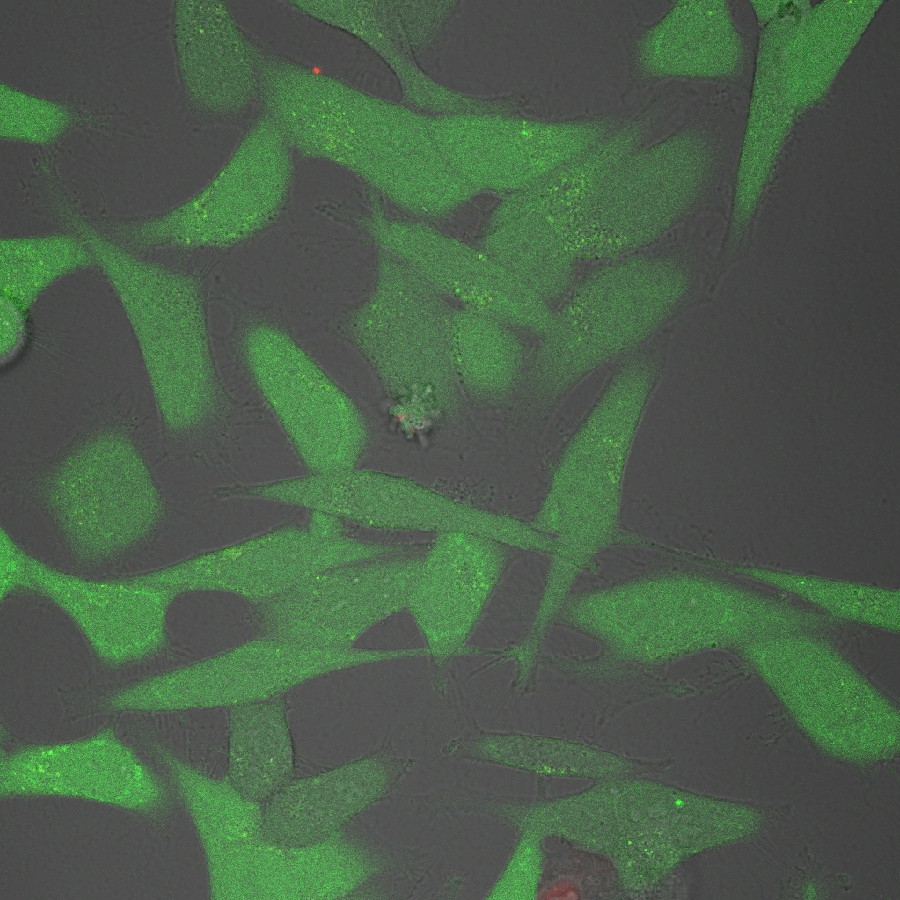live: (517, 364, 650, 679), (735, 2, 877, 269), (256, 62, 469, 209), (96, 634, 467, 715), (107, 101, 301, 253), (81, 229, 222, 434), (254, 472, 575, 555), (505, 255, 685, 397), (339, 216, 555, 318), (547, 577, 819, 657), (231, 312, 364, 472), (747, 630, 900, 768), (112, 521, 394, 590), (253, 751, 408, 841), (1, 728, 170, 808), (446, 729, 663, 778), (166, 1, 249, 108)
mid: (346, 274, 510, 444), (44, 422, 162, 567), (628, 1, 747, 83)
